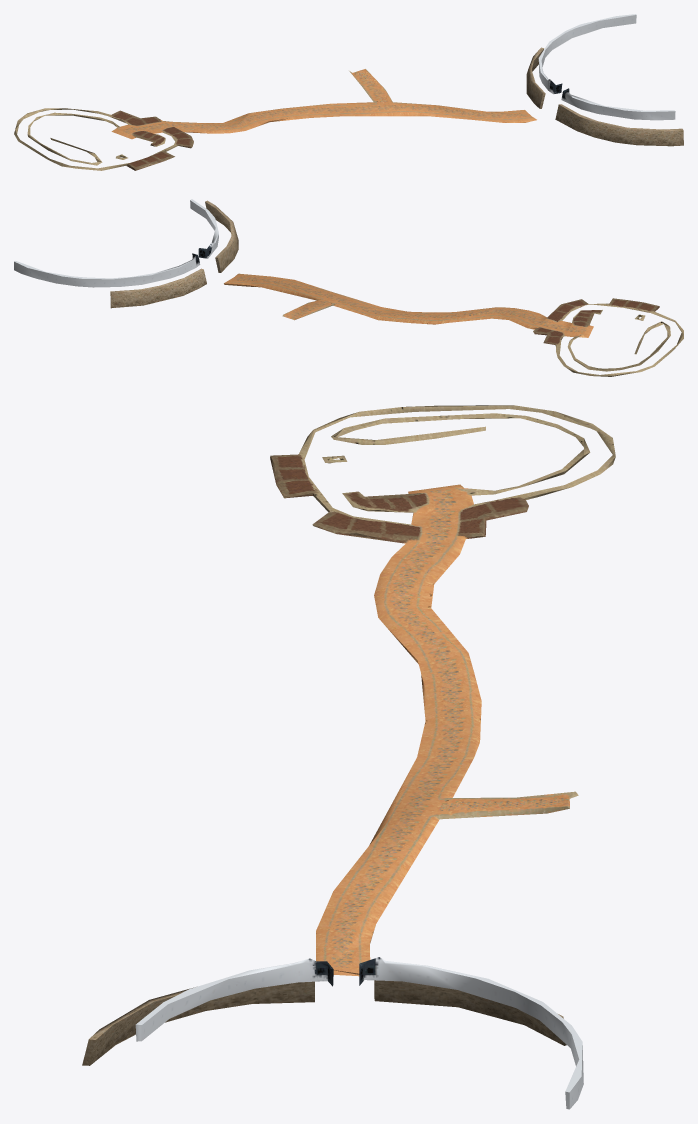
The model's file is clod_town_t01_clod000_t01.gltf.
3 renders of one model, top to bottom at view 1: azimuth 30°, elevation 25°; view 2: azimuth 150°, elevation 25°; view 3: azimuth 270°, elevation 25°, orthographic. The views are drawn at different scales.
Visible parts, largest first — view 1: clod_town_t01_clod000_t01_000_meshShape:remesh_mat; view 2: clod_town_t01_clod000_t01_000_meshShape:remesh_mat; view 3: clod_town_t01_clod000_t01_000_meshShape:remesh_mat.
Boxes of the visible parts, x1,y1,x2,y2 form: clod_town_t01_clod000_t01_000_meshShape:remesh_mat: [14, 14, 683, 170]; clod_town_t01_clod000_t01_000_meshShape:remesh_mat: [14, 199, 683, 376]; clod_town_t01_clod000_t01_000_meshShape:remesh_mat: [82, 405, 615, 1109].
Size of the model in its own units: 204 by 20.17 by 75.35.
Materials: 1 (1 with a texture image).
